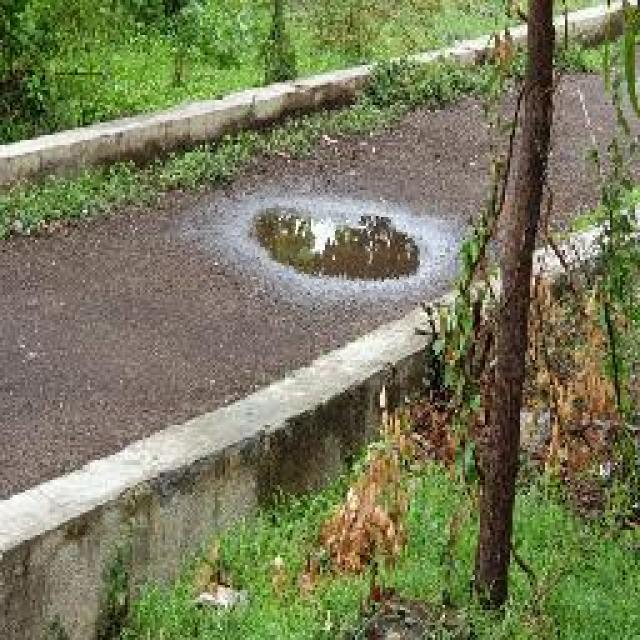puddle: (252, 202, 422, 291)
